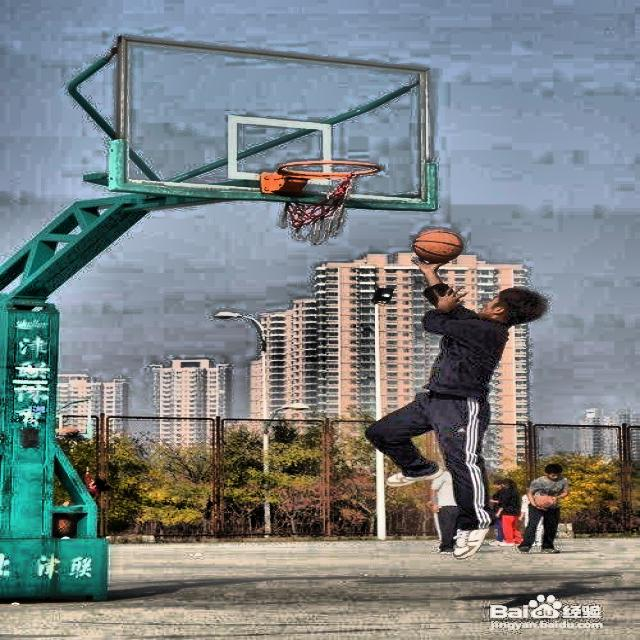board: (414, 230, 464, 262)
